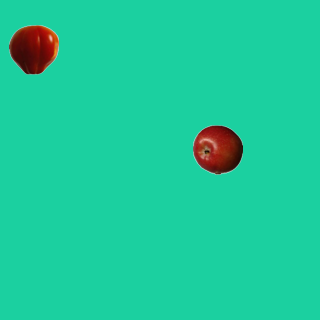Apple Braeburn: (192, 124, 242, 174)
Tomato 1: (8, 24, 58, 74)
